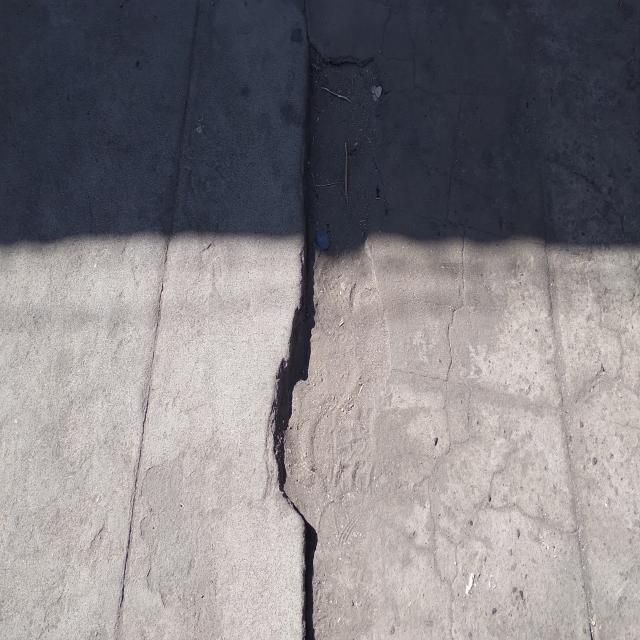hole: (266, 49, 390, 524)
